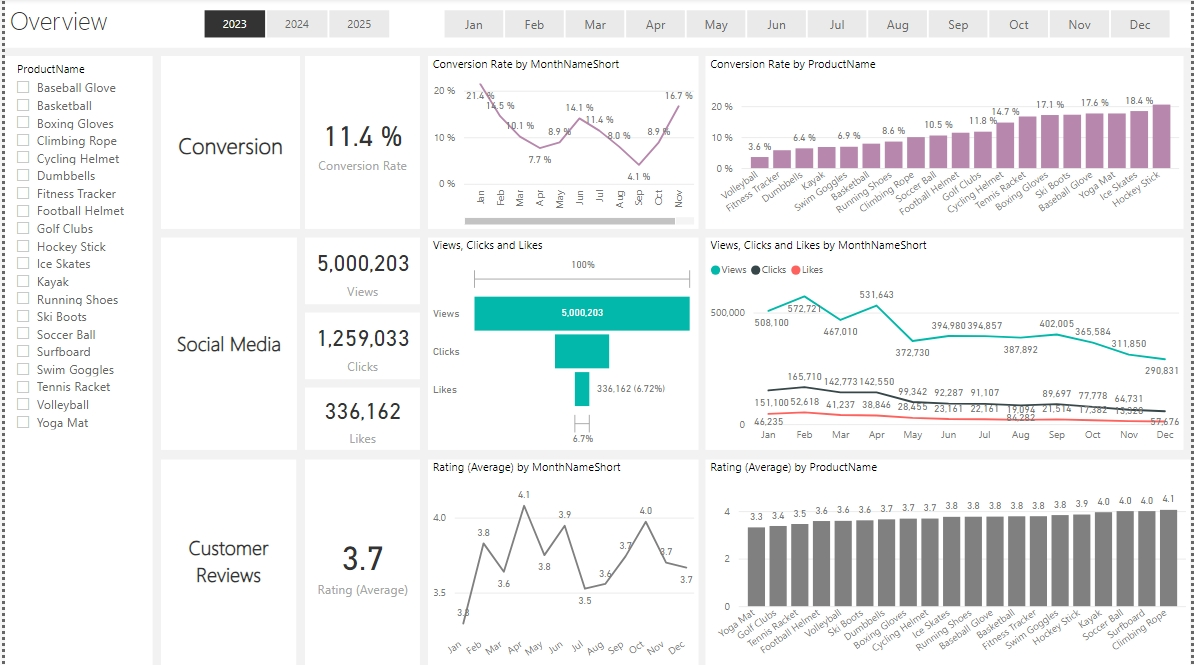

This screenshot's page, from the dashboard's own definition file:
{"tool":"powerbi","page":{"name":"Overview","canvas":[1280,720],"ordinal":0},"visuals":[{"type":"textbox","box":[0,0,1280,52.6],"z":0},{"type":"slicer","fields":{"Values":["dim_products.ProductName"]},"box":[0,61.6,159.5,658.5],"z":1000},{"type":"card","fields":{"Values":["_Calculations.Conversion Rate"]},"box":[324.1,61.9,123.9,186.8],"z":2000},{"type":"card","fields":{"Values":["_Calculations.Rating (Average)"]},"box":[324.1,496.5,123.9,224],"z":3000},{"type":"lineChart","fields":{"Y":["_Calculations.Conversion Rate"],"Category":["Calendar.MonthNameShort"]},"box":[457.1,61.9,292.3,186.7],"z":4000},{"type":"columnChart","fields":{"Category":["dim_products.ProductName"],"Y":["_Calculations.Conversion Rate"]},"box":[756.7,61.9,516.3,186.7],"z":5000},{"type":"slicer","fields":{"Values":["Calendar.Year"]},"box":[189.4,4.6,249.5,43.7],"z":6000},{"type":"slicer","fields":{"Values":["Calendar.MonthNameShort"]},"box":[448,4.6,832.3,43.7],"z":7000},{"type":"lineChart","fields":{"Y":["_Calculations.Views","_Calculations.Clicks","_Calculations.Likes"],"Category":["Calendar.MonthNameShort"]},"box":[756.6,258.1,516.1,229.2],"z":8000},{"type":"lineChart","fields":{"Category":["Calendar.MonthNameShort"],"Y":["_Calculations.Rating (Average)"]},"box":[457.1,496.3,292.3,224],"z":9000},{"type":"columnChart","fields":{"Category":["dim_products.ProductName"],"Y":["_Calculations.Rating (Average)"]},"box":[756.6,496.5,523.4,224],"z":10000},{"type":"funnel","fields":{"Y":["_Calculations.Views","_Calculations.Clicks","_Calculations.Likes"]},"box":[457.3,258.1,292.1,229.2],"z":11000},{"type":"card","fields":{"Values":["_Calculations.Views"]},"box":[324.2,257.7,123.8,71.9],"z":12000},{"type":"textbox","box":[168.5,61.9,150.3,186.7],"z":13000},{"type":"textbox","box":[168.5,257.7,146.6,229.5],"z":14000},{"type":"textbox","box":[168.5,496.3,145.7,224],"z":15000},{"type":"card","fields":{"Values":["_Calculations.Clicks"]},"box":[324.2,338.8,123.8,71.9],"z":16000},{"type":"card","fields":{"Values":["_Calculations.Likes"]},"box":[324.2,419.8,123.8,67.4],"z":17000}]}

Visuals, with their boxes in screenshot pixels (x1, y1, x2, y2), scaled from the page's 1280x720 canvas onto the 1194x665 screenshot:
textbox: x1=0, y1=0, x2=1193, y2=49
slicer - dim_products.ProductName: x1=0, y1=57, x2=149, y2=664
card - _Calculations.Conversion Rate: x1=302, y1=57, x2=418, y2=230
card - _Calculations.Rating (Average): x1=302, y1=459, x2=418, y2=664
lineChart - _Calculations.Conversion Rate x Calendar.MonthNameShort: x1=426, y1=57, x2=699, y2=230
columnChart - dim_products.ProductName x _Calculations.Conversion Rate: x1=706, y1=57, x2=1187, y2=230
slicer - Calendar.Year: x1=177, y1=4, x2=409, y2=45
slicer - Calendar.MonthNameShort: x1=418, y1=4, x2=1193, y2=45
lineChart - _Calculations.Views x _Calculations.Clicks: x1=706, y1=238, x2=1187, y2=450
lineChart - Calendar.MonthNameShort x _Calculations.Rating (Average): x1=426, y1=458, x2=699, y2=664
columnChart - dim_products.ProductName x _Calculations.Rating (Average): x1=706, y1=459, x2=1193, y2=664
funnel - _Calculations.Views x _Calculations.Clicks: x1=427, y1=238, x2=699, y2=450
card - _Calculations.Views: x1=302, y1=238, x2=418, y2=304
textbox: x1=157, y1=57, x2=297, y2=230
textbox: x1=157, y1=238, x2=294, y2=450
textbox: x1=157, y1=458, x2=293, y2=664
card - _Calculations.Clicks: x1=302, y1=313, x2=418, y2=379
card - _Calculations.Likes: x1=302, y1=388, x2=418, y2=450
